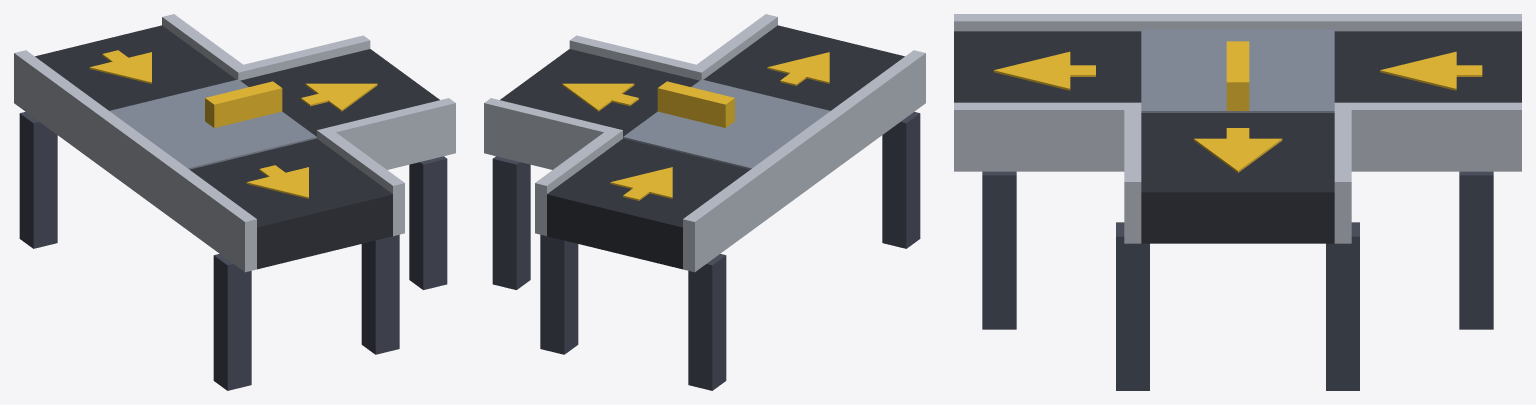
The model's file is conveyor-split-straight-right.glb.
The picture shows the model from 3 angles, left to right: view 1: azimuth 30°, elevation 25°; view 2: azimuth 150°, elevation 25°; view 3: azimuth 270°, elevation 25°; orthographic projection. The views are drawn at different scales.
Visible parts, largest first — view 1: conveyor-split-straight-right; view 2: conveyor-split-straight-right; view 3: conveyor-split-straight-right.
Part boxes in pixels (left/top/right/bottom): conveyor-split-straight-right: left=14, top=14, right=455, bottom=390; conveyor-split-straight-right: left=484, top=14, right=925, bottom=390; conveyor-split-straight-right: left=954, top=14, right=1521, bottom=390.
Bounding box in the file's own units: 0.715 × 0.46 × 1.
Materials: 1 (1 with a texture image).
